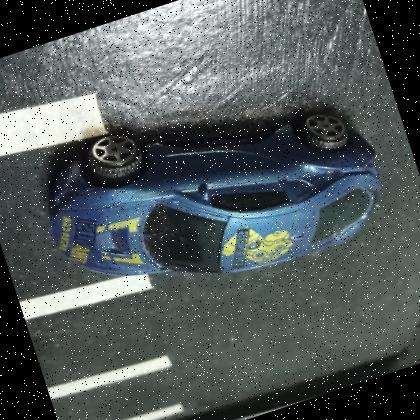Car: (25, 54, 401, 332)
